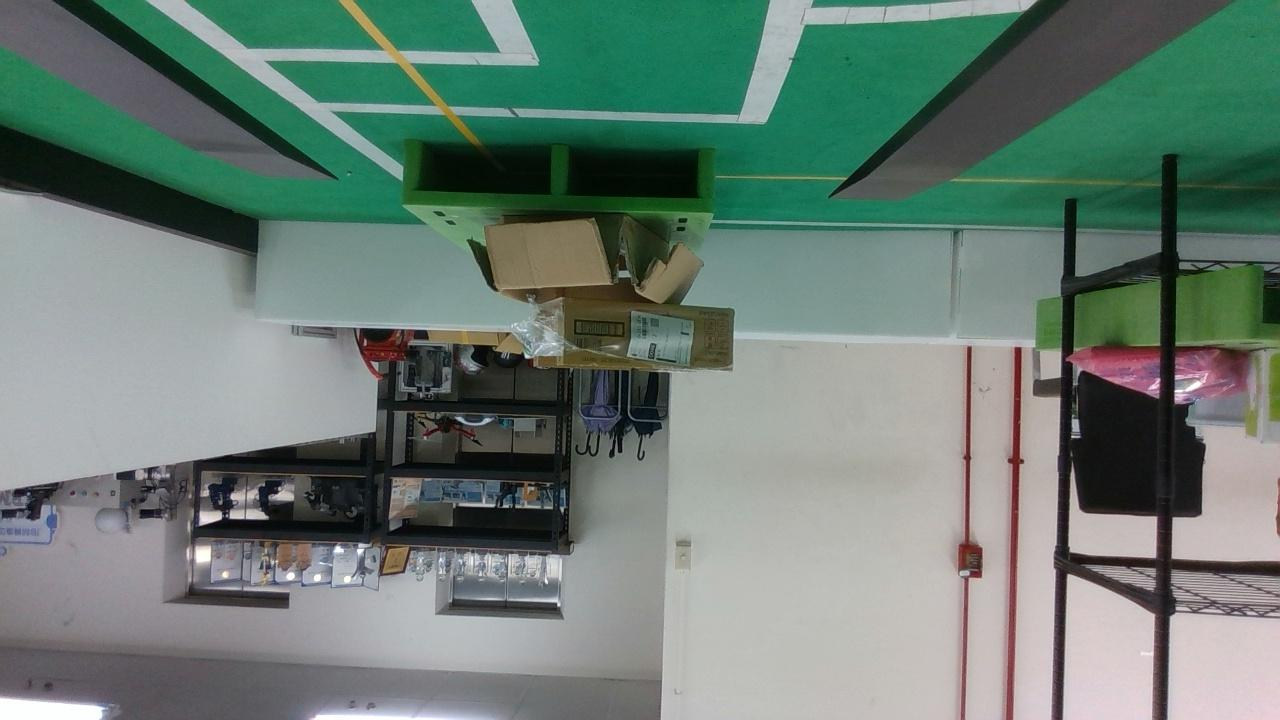Pallet: (396, 136, 724, 215)
